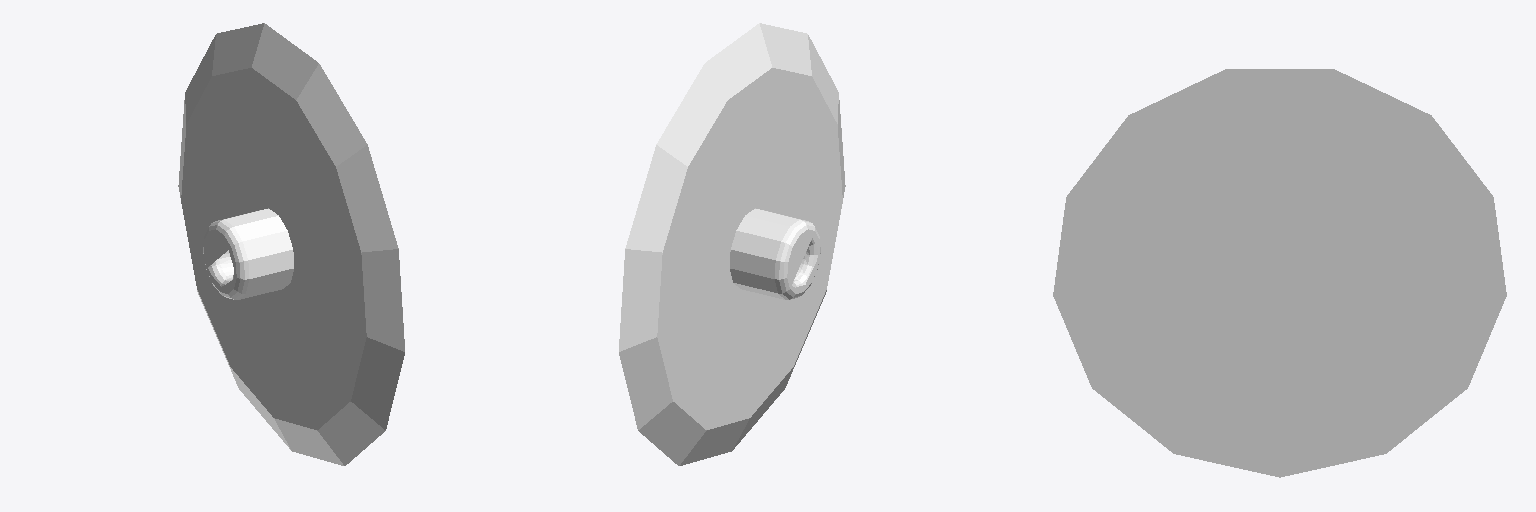
File: Radkappe-vorne-links.obj
3 views of the same model, side by side, from view 1: azimuth 30°, elevation 25°; view 2: azimuth 150°, elevation 25°; view 3: azimuth 270°, elevation 25° (orthographic).
Visible parts, largest first — view 1: Radkappe_-_10_mm.003; view 2: Radkappe_-_10_mm.003; view 3: Radkappe_-_10_mm.003.
Part boxes in pixels (bbox=[...]): Radkappe_-_10_mm.003: bbox=[178, 23, 404, 465]; Radkappe_-_10_mm.003: bbox=[619, 23, 845, 465]; Radkappe_-_10_mm.003: bbox=[1053, 69, 1506, 477].
Bounding box in the file's own units: 0.0562 × 0.3056 × 0.3078.